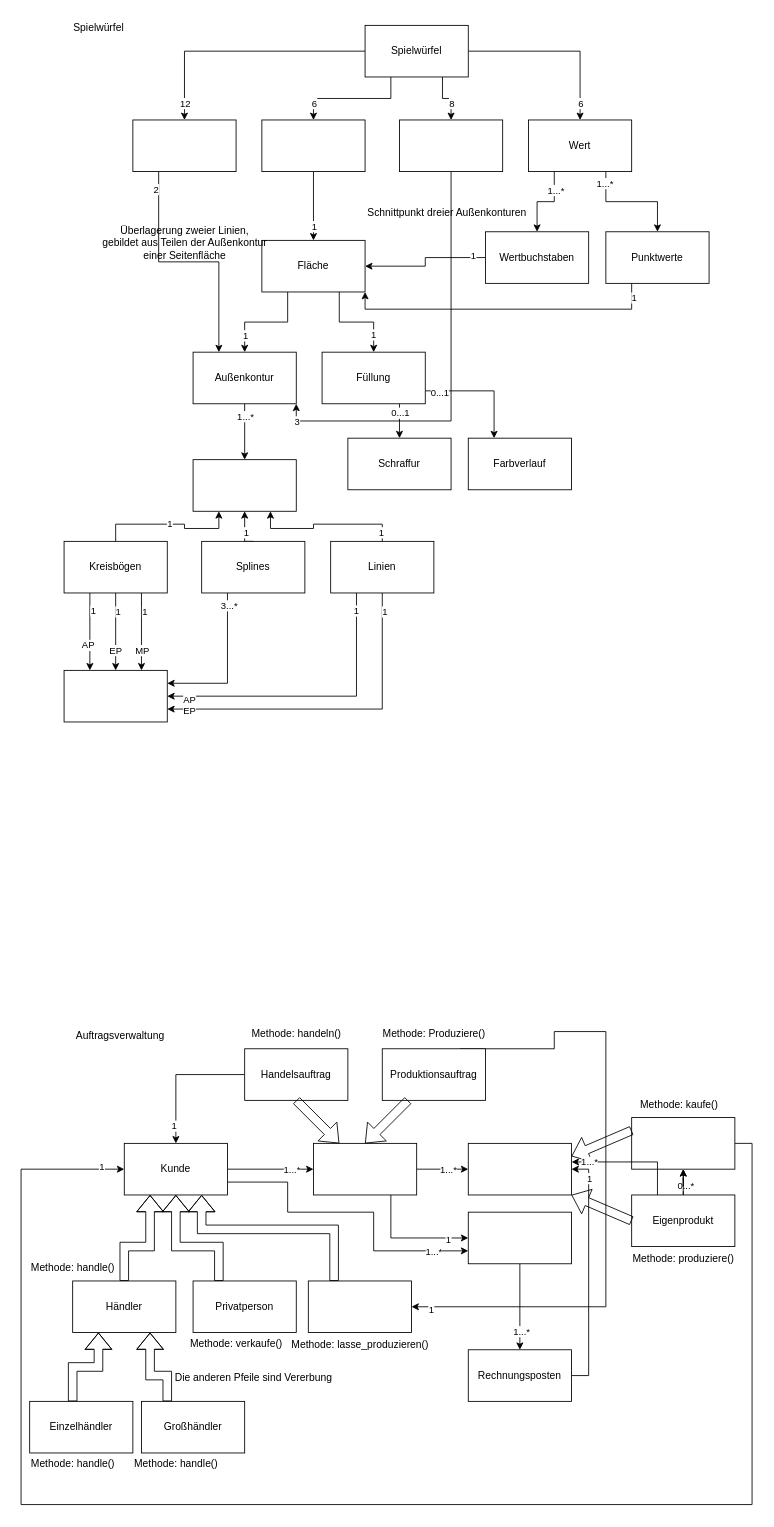
The diagram is 774 pixels wide and 1527 high, and some of its shapes have lost their labels. Here are the shapes that lost their labels. From the top down, the box of each, then its label:
(132, 119, 236, 172): Kante
(261, 119, 365, 172): Seite
(399, 119, 503, 172): Eckpunkt
(192, 459, 296, 511): GeometrieElement
(63, 670, 167, 722): Punkt
(631, 1117, 735, 1169): Zukaufteil
(313, 1143, 417, 1195): Auftrag
(467, 1143, 571, 1195): Produkt
(467, 1211, 571, 1264): Rechnung
(307, 1280, 412, 1333): Produktionsbetrieb
